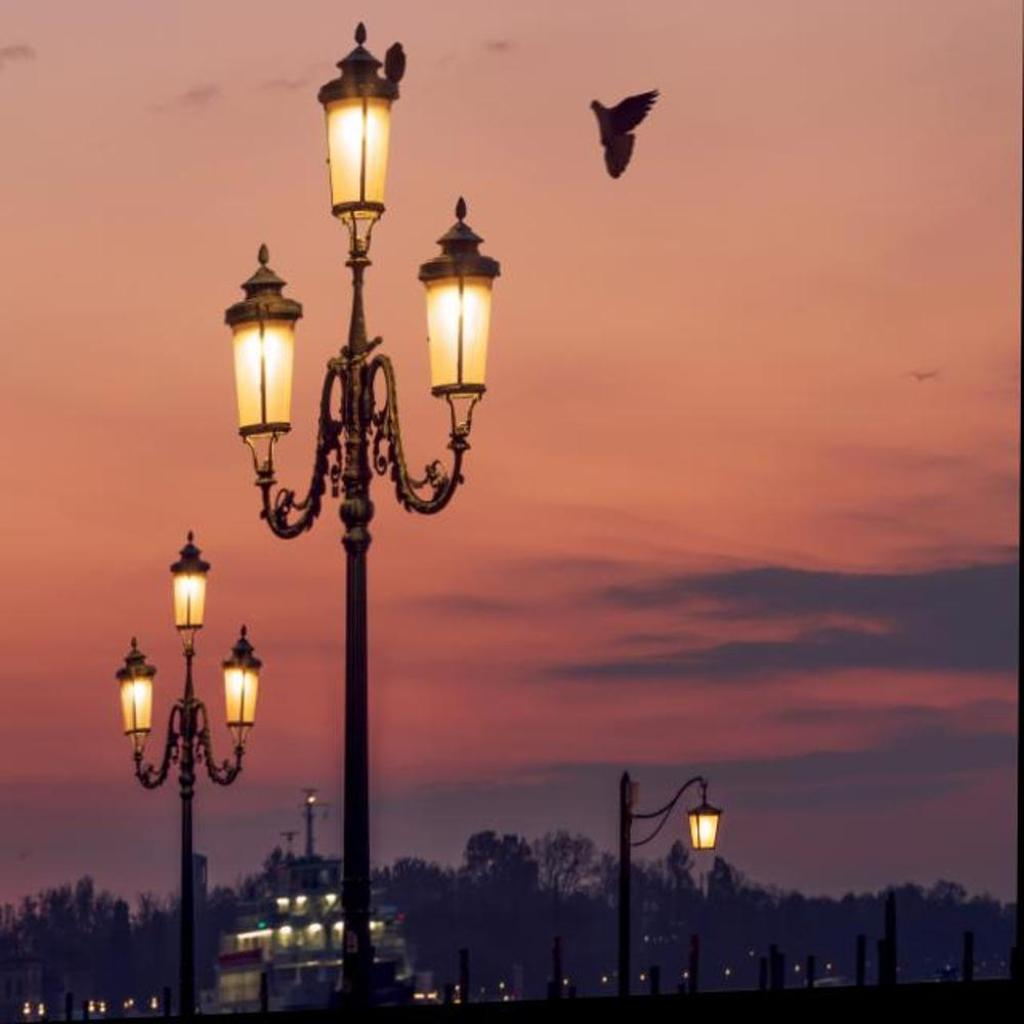shelf: (227, 0, 561, 1016), (70, 508, 289, 1018), (598, 727, 734, 993)
